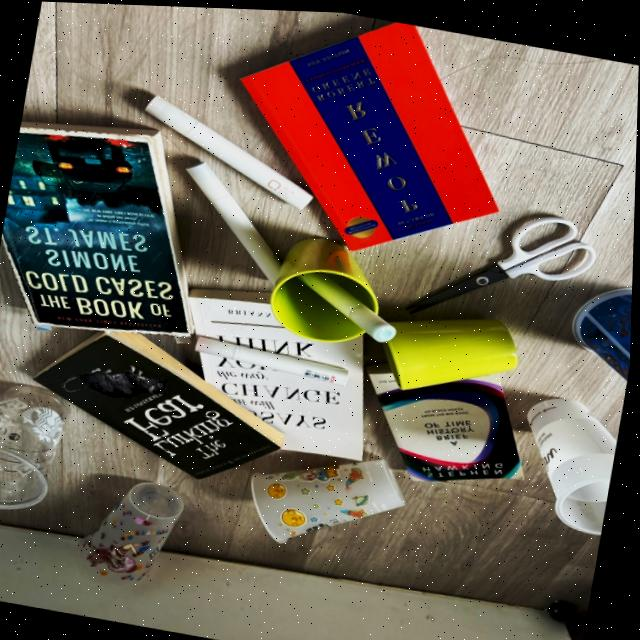Book: (243, 19, 498, 247), (4, 124, 193, 334), (37, 330, 286, 477), (189, 288, 366, 458), (369, 361, 525, 478)
HighLight Pen: (146, 95, 313, 208), (188, 161, 282, 282), (197, 334, 351, 384), (297, 270, 398, 339)
Plastic Cup: (254, 457, 408, 541), (530, 393, 619, 530), (85, 480, 186, 580), (0, 387, 68, 509), (574, 283, 634, 376)
Scissors: (410, 212, 597, 310)
WaterGlass: (272, 236, 399, 339), (386, 315, 520, 387)
